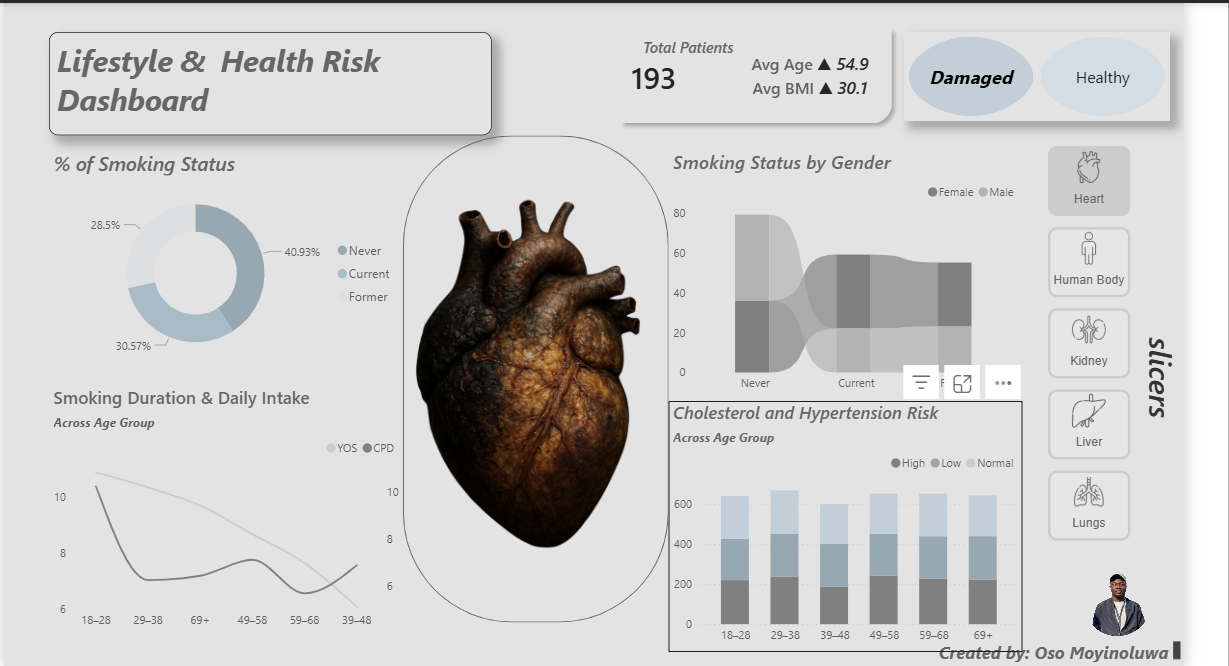

What the dashboard file says about the page in this screenshot:
{"tool":"powerbi","page":{"name":"General Overview","canvas":[1280,720],"ordinal":0},"visuals":[{"type":"cardVisual","fields":{"Data":["CountNonNull(health_dataset.Patient_ID)"]},"box":[640,0,352,160],"z":0},{"type":"textbox","box":[688,32,128,32],"z":1000},{"type":"advancedSlicerVisual","fields":{"Values":["condition.Organ_Condition"]},"box":[976,32,288,96],"z":2000},{"type":"ChicletSlicer1448559807354","fields":{"Category":["Organs.Organ"],"Image":["Organs.Icon_URL"]},"box":[1120,144,128,464],"z":3000},{"type":"donutChart","title":"% of Smoking Status","fields":{"Category":["health_dataset.Smoking_Status"],"Y":["CountNonNull(health_dataset.Smoking_Status)"]},"box":[48,160,384,240],"z":4000},{"type":"lineChart","title":"Smoking Duration & Daily Intake","fields":{"Category":["health_dataset.Age Group"],"Y":["Avg(health_dataset.Years_of_Smoking)"],"Y2":["Avg(health_dataset.Cigarettes_Per_Day)"]},"box":[48,416,384,272],"z":5000},{"type":"textbox","box":[48,32,480,112],"z":6000},{"type":"textbox","box":[1008,688,272,32],"z":7000},{"type":"image","box":[1136,592,144,128],"z":8000},{"type":"image","box":[400,176,336,464],"z":8001},{"type":"ribbonChart","title":"Smoking Status by Gender","fields":{"Category":["health_dataset.Smoking_Status"],"Y":["CountNonNull(health_dataset.Patient_ID)"],"Series":["health_dataset.Gender"]},"box":[720,160,384,272],"z":8002},{"type":"columnChart","title":"Cholesterol and Hypertension Risk","fields":{"Category":["health_dataset.Age Group"],"Y":["Avg(health_dataset.Cholesterol_Level)"],"Series":["health_dataset.BP_Risk"]},"box":[720,432,384,272],"z":8003},{"type":"shape","box":[432,144,288,528],"z":8004},{"type":"shape","box":[1232,256,48,304],"z":8008}]}

Visuals, with their boxes on the page's 1280x720 design canvas (x1, y1, x2, y2). These are canvas units, not pixel positions in the 1229x666 screenshot, which may show the page scaled, cropped or inside an application window:
cardVisual - CountNonNull(health_dataset.Patient_ID): 640, 0, 992, 160
textbox: 688, 32, 816, 64
advancedSlicerVisual - condition.Organ_Condition: 976, 32, 1264, 128
ChicletSlicer1448559807354 - Organs.Organ x Organs.Icon_URL: 1120, 144, 1248, 608
"% of Smoking Status" donutChart: 48, 160, 432, 400
"Smoking Duration & Daily Intake" lineChart: 48, 416, 432, 688
textbox: 48, 32, 528, 144
textbox: 1008, 688, 1280, 720
image: 1136, 592, 1280, 720
image: 400, 176, 736, 640
"Smoking Status by Gender" ribbonChart: 720, 160, 1104, 432
"Cholesterol and Hypertension Risk" columnChart: 720, 432, 1104, 704
shape: 432, 144, 720, 672
shape: 1232, 256, 1280, 560
